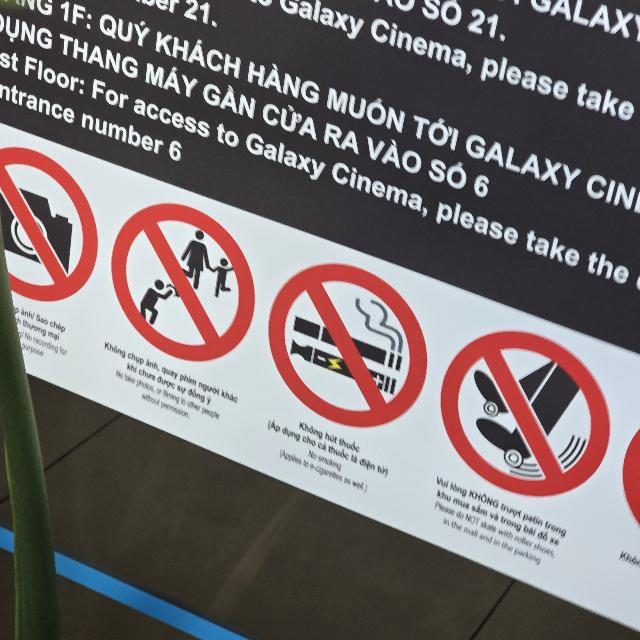cam hut thuoc: (269, 264, 427, 427)
